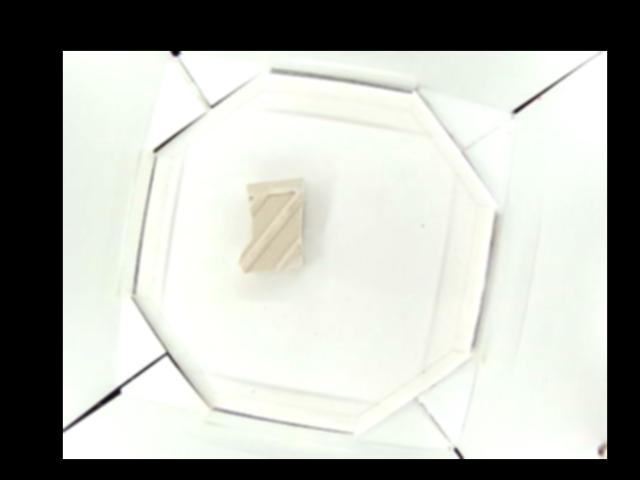China: (235, 178, 306, 274)
